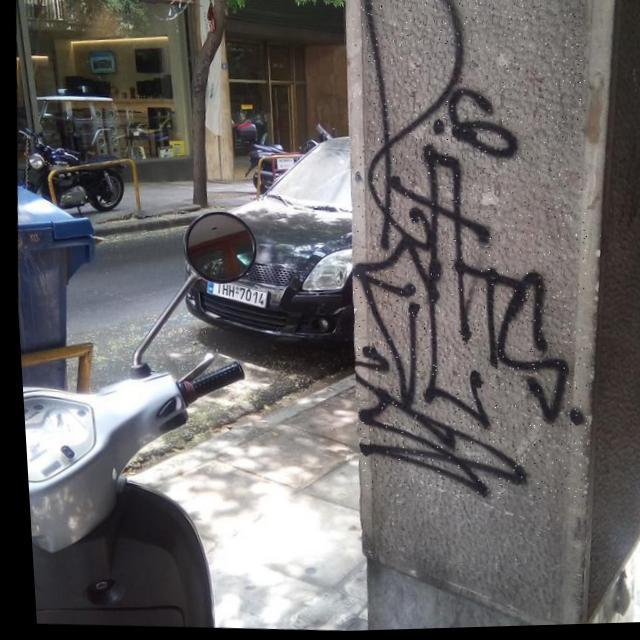-: (326, 0, 608, 509)
